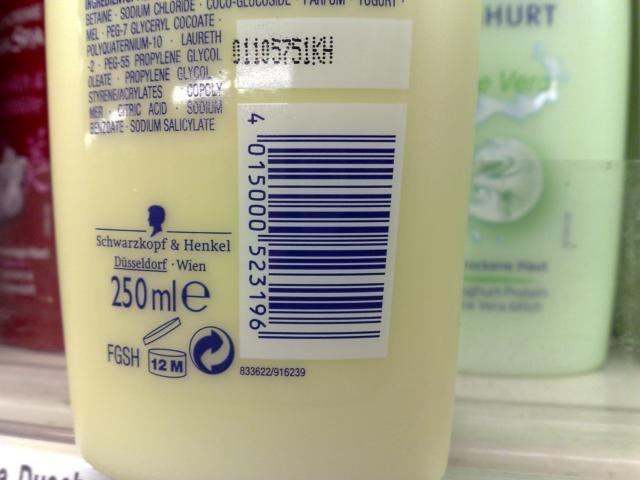Barcode: (237, 104, 401, 347)
